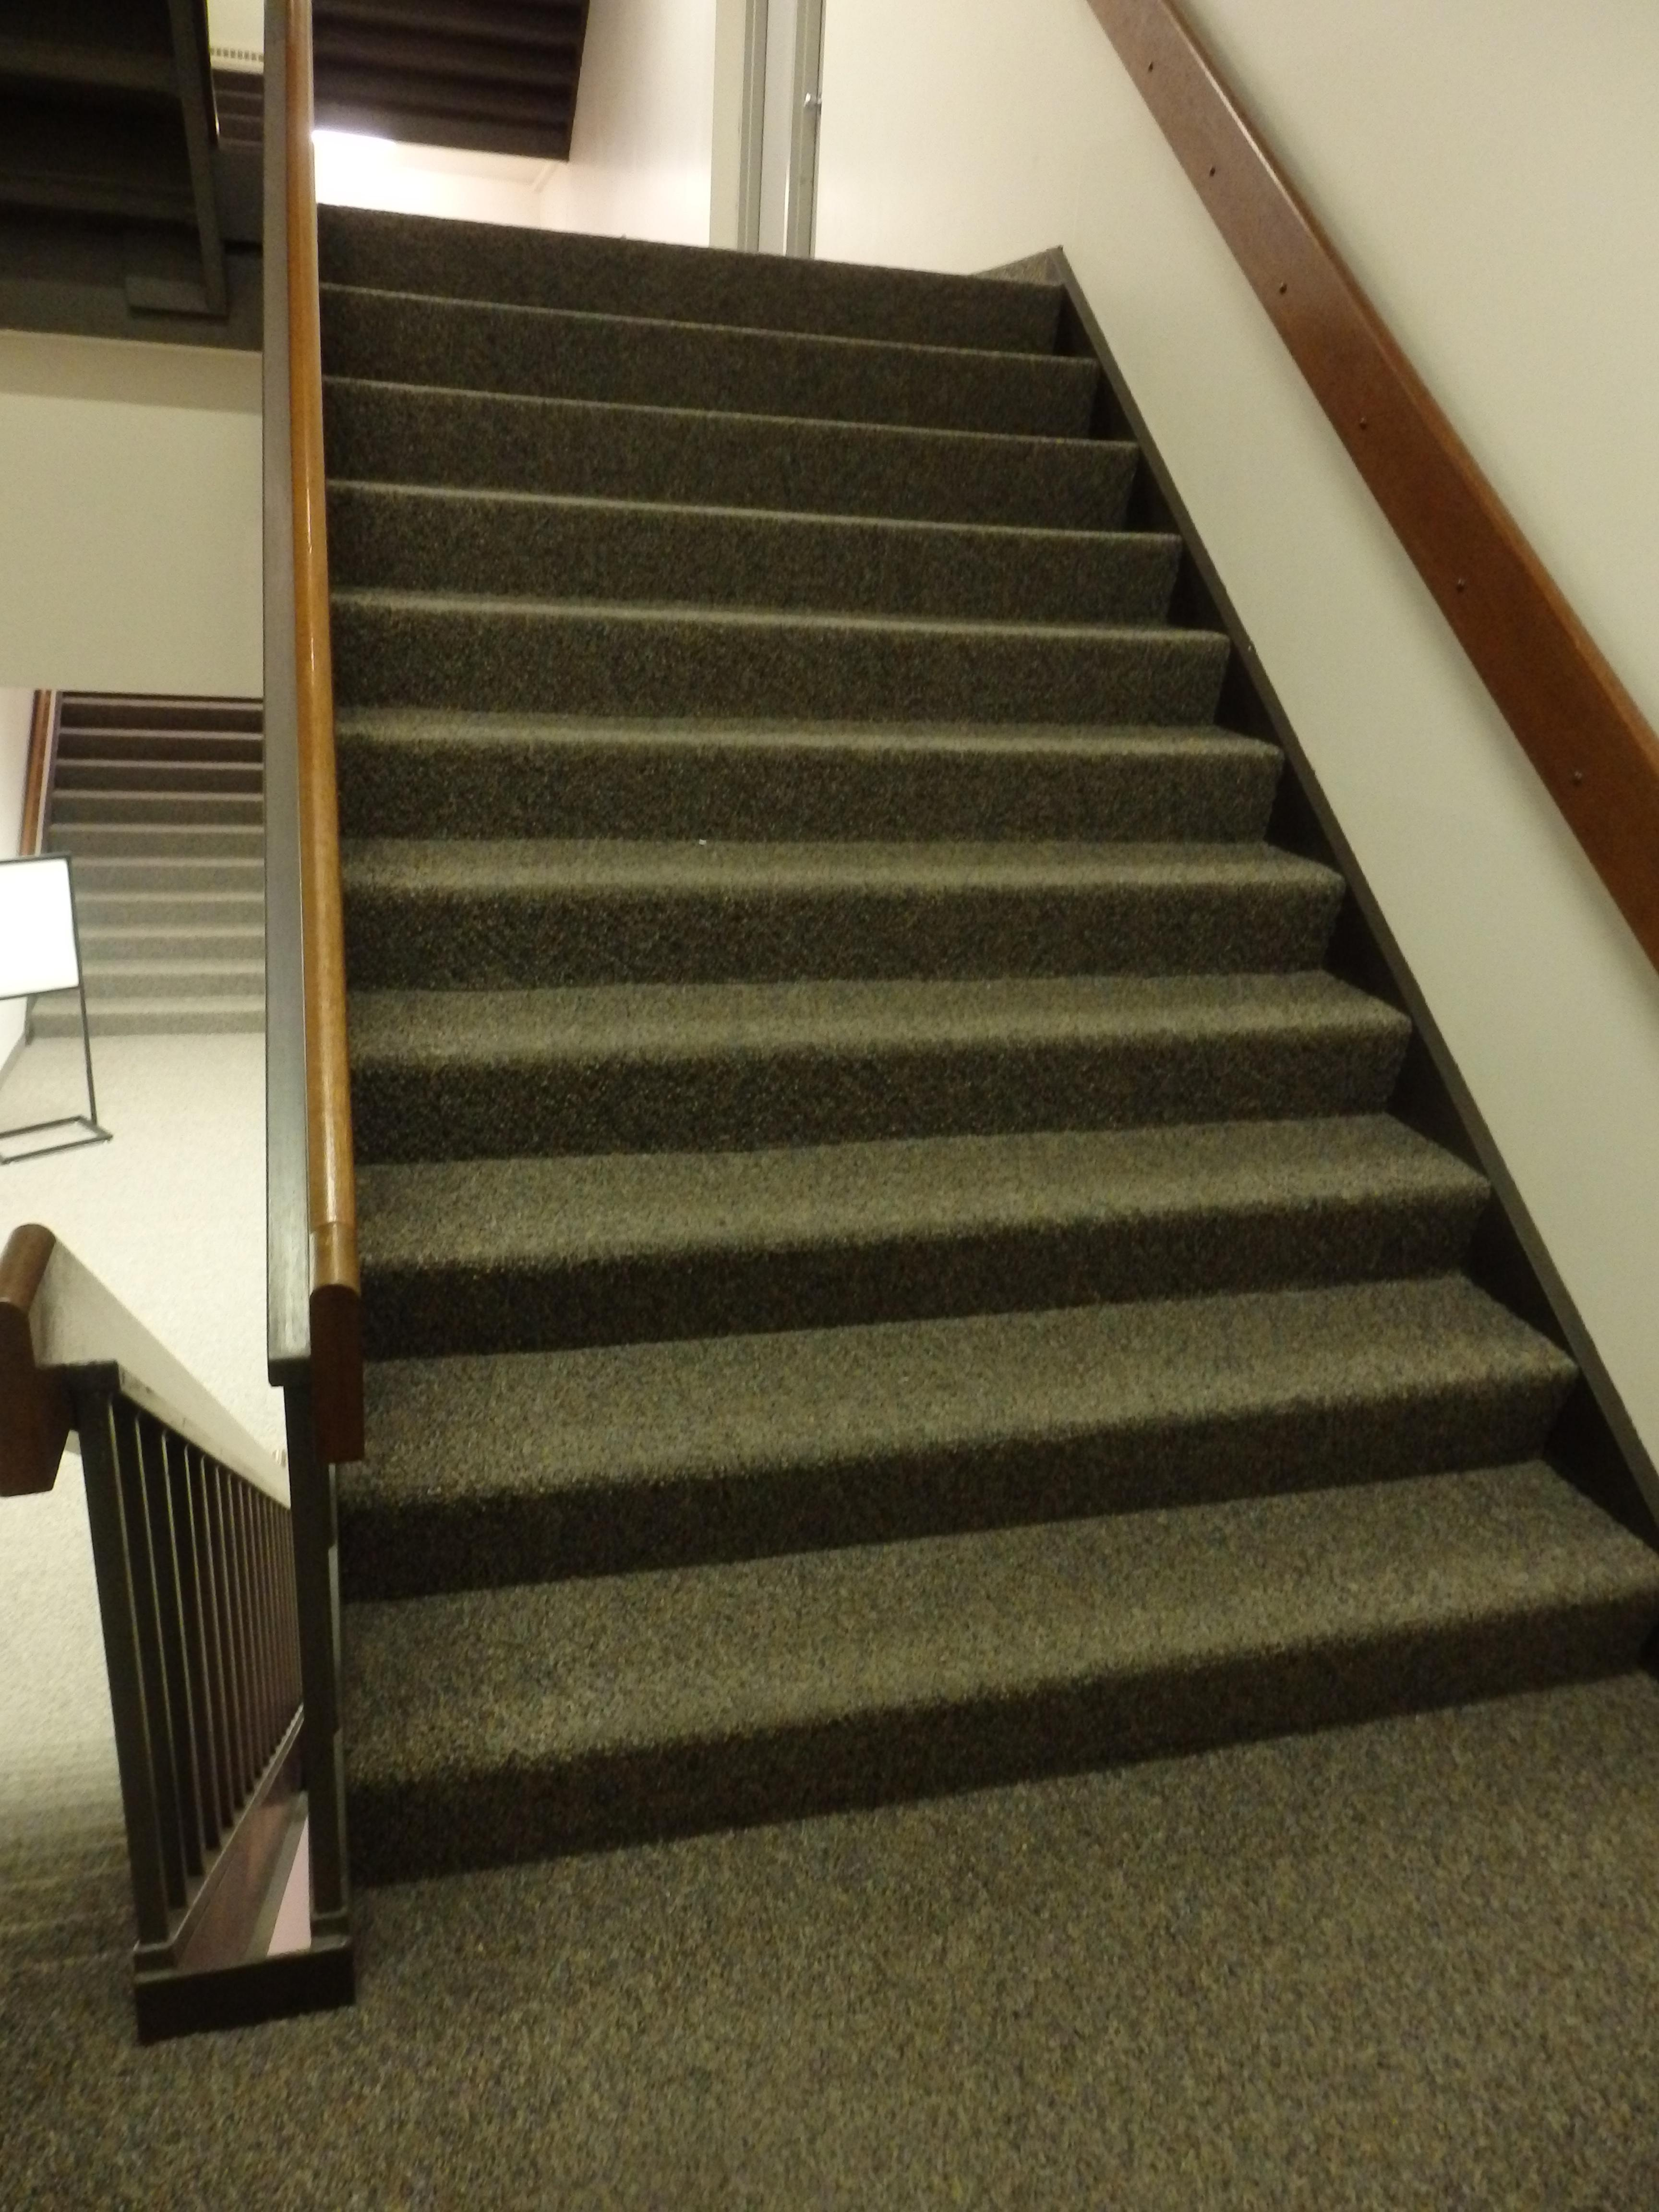stairs_down: (291, 195, 1534, 1768)
